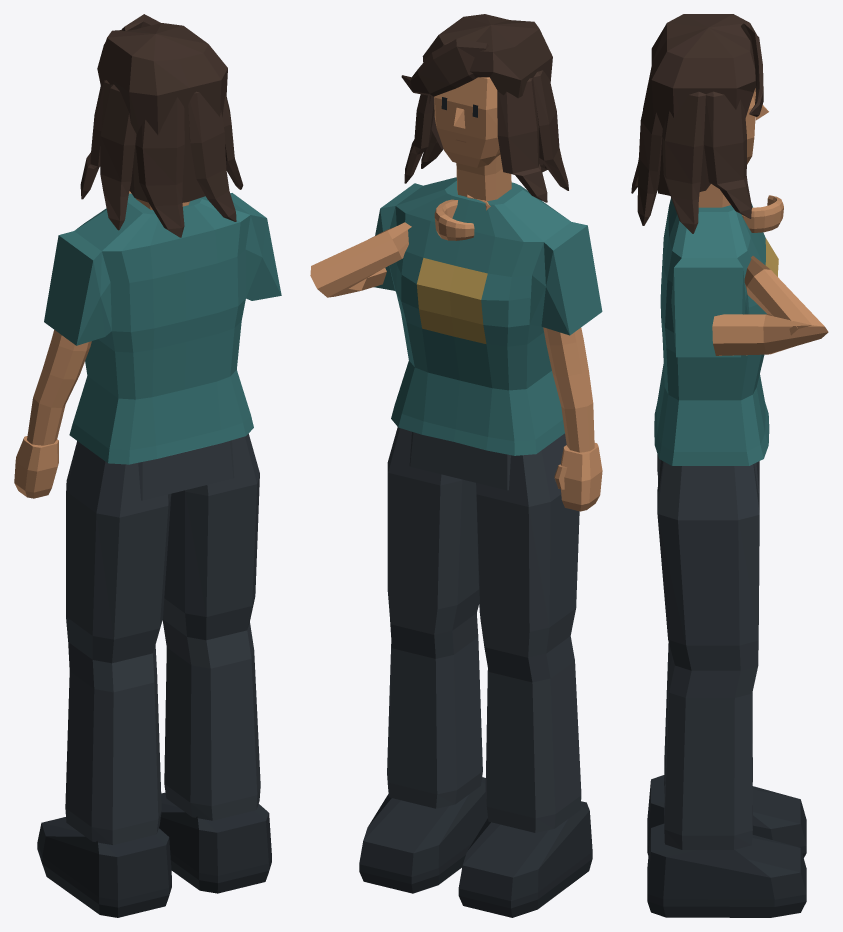
File: lwf_attendee_female_drinking_soft_v1.glb
The picture shows the model from 3 angles, left to right: view 1: azimuth 30°, elevation 25°; view 2: azimuth 150°, elevation 25°; view 3: azimuth 270°, elevation 25°; orthographic projection.
Parts seen in each view (by area): view 1: Attendee_female_drinking_soft; view 2: Attendee_female_drinking_soft; view 3: Attendee_female_drinking_soft.
Part boxes in pixels (left/top/right/bottom): Attendee_female_drinking_soft: left=14, top=14, right=281, bottom=917; Attendee_female_drinking_soft: left=310, top=14, right=602, bottom=917; Attendee_female_drinking_soft: left=631, top=14, right=828, bottom=917.
Size of the model in its own units: 0.5381 by 1.75 by 0.3701.
1 material, 1 textured.
